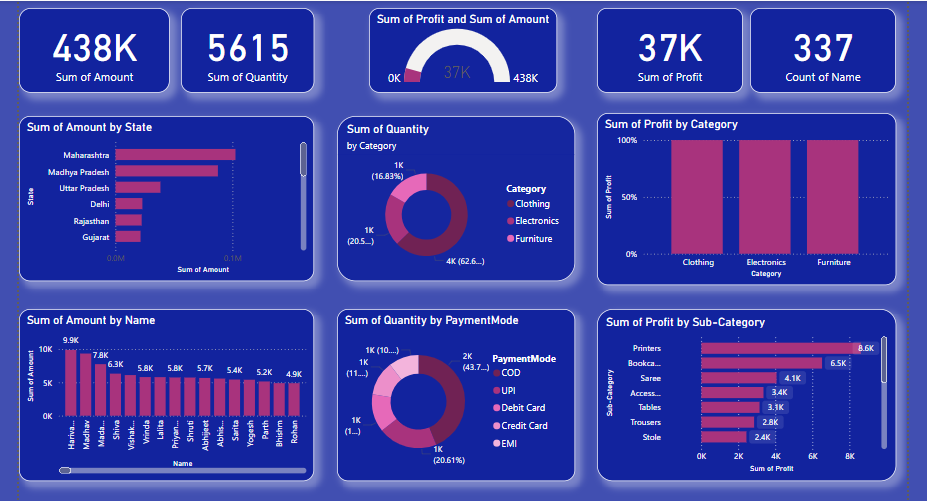

Layout of this report page (visuals, bound fields, positions):
{"tool":"powerbi","page":{"name":"Page 1","canvas":[1280,720],"ordinal":0},"visuals":[{"type":"textbox","box":[10,222,358,150],"z":0},{"type":"card","fields":{"Values":["Sum(Details.Profit)"]},"box":[832.3,10.1,210.2,122.4],"z":1000},{"type":"card","fields":{"Values":["Sum(Details.Amount)"]},"box":[0,10.1,217.4,122.4],"z":2000},{"type":"card","fields":{"Values":["Sum(Details.Quantity)"]},"box":[233.3,10.1,191.5,122.4],"z":3000},{"type":"barChart","fields":{"Category":["Orders.Column4"],"Y":["Sum(Details.Amount)"]},"box":[0,165.6,424.8,237.6],"z":4000},{"type":"columnChart","fields":{"Category":["Orders.Column3"],"Y":["Sum(Details.Amount)"]},"box":[0,443.5,424.8,247.7],"z":5000},{"type":"donutChart","fields":{"Category":["Details.Category"],"Y":["Sum(Details.Quantity)"]},"box":[457.9,165.6,342.7,237.6],"z":6000},{"type":"donutChart","fields":{"Y":["Sum(Details.Quantity)"],"Category":["Details.PaymentMode"]},"box":[457.9,443.5,342.7,247.7],"z":7000},{"type":"barChart","fields":{"Category":["Details.Sub-Category"],"Y":["Sum(Details.Profit)"]},"box":[832.3,443.5,430.6,247.7],"z":8000},{"type":"hundredPercentStackedColumnChart","fields":{"Category":["Details.Category"],"Y":["Sum(Details.Profit)"]},"box":[832.3,161.3,430.6,247.7],"z":9000},{"type":"gauge","fields":{"Y":["Sum(Details.Profit)"],"MaxValue":["Sum(Details.Amount)"]},"box":[504,10.1,270.7,122.4],"z":10000},{"type":"card","fields":{"Values":["Count(Orders.Column3)"]},"box":[1052.6,10.1,210.2,122.4],"z":11000}]}

Visuals, with their boxes in screenshot pixels (x1, y1, x2, y2):
textbox: x1=29 y1=155 x2=275 y2=258
card - Sum(Details.Profit): x1=594 y1=9 x2=739 y2=94
card - Sum(Details.Amount): x1=22 y1=9 x2=171 y2=94
card - Sum(Details.Quantity): x1=182 y1=9 x2=314 y2=94
barChart - Orders.Column4 x Sum(Details.Amount): x1=22 y1=116 x2=314 y2=280
columnChart - Orders.Column3 x Sum(Details.Amount): x1=22 y1=307 x2=314 y2=478
donutChart - Details.Category x Sum(Details.Quantity): x1=337 y1=116 x2=572 y2=280
donutChart - Sum(Details.Quantity) x Details.PaymentMode: x1=337 y1=307 x2=572 y2=478
barChart - Details.Sub-Category x Sum(Details.Profit): x1=594 y1=307 x2=890 y2=478
hundredPercentStackedColumnChart - Details.Category x Sum(Details.Profit): x1=594 y1=113 x2=890 y2=284
gauge - Sum(Details.Profit) x Sum(Details.Amount): x1=368 y1=9 x2=555 y2=94
card - Count(Orders.Column3): x1=746 y1=9 x2=890 y2=94
